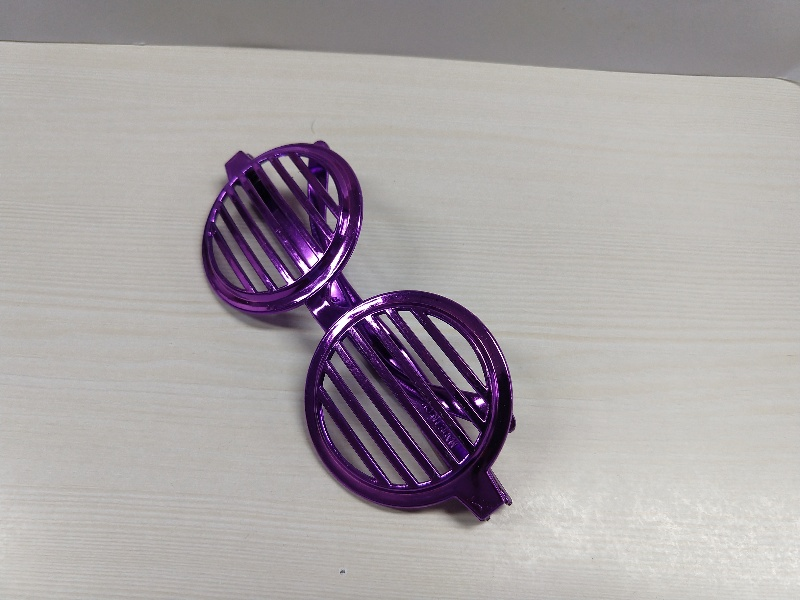shades: (199, 134, 532, 525)
